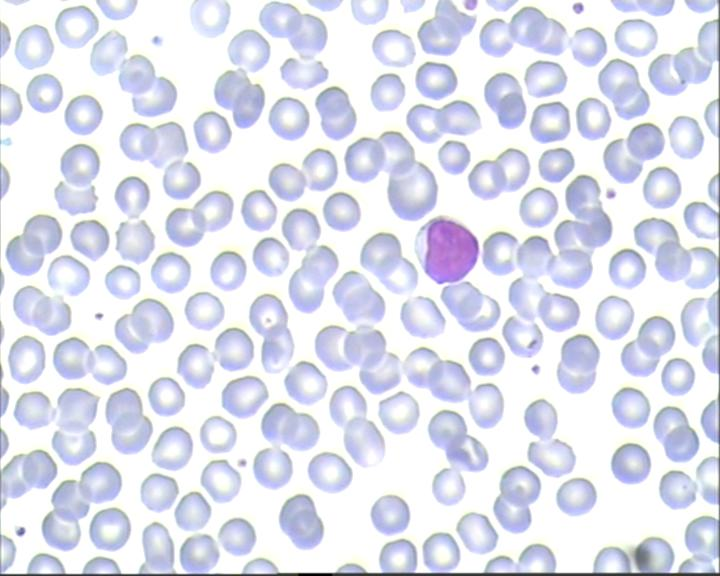lymp: (411, 214, 484, 286)
